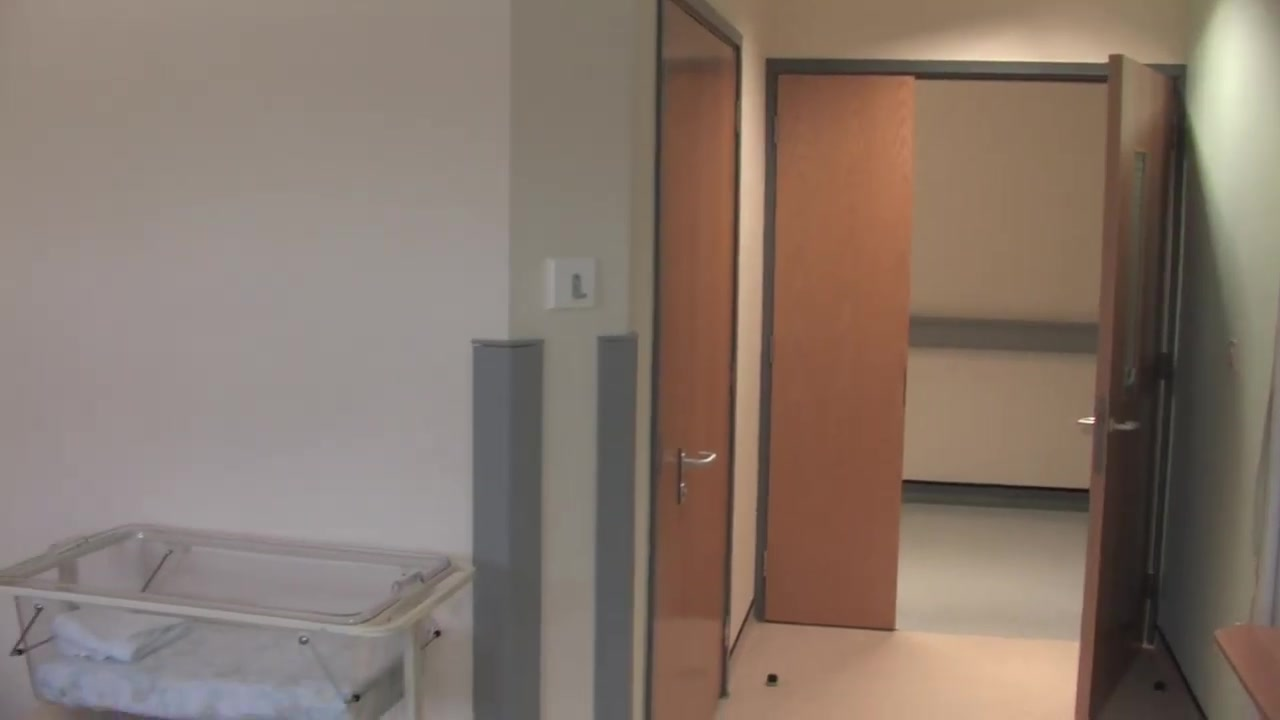door_handle: (680, 447, 719, 468), (1111, 419, 1142, 431), (1076, 416, 1096, 425)
light_switch: (546, 256, 594, 309)
